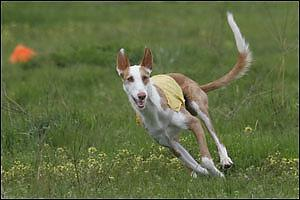Ibizan_hound: (114, 10, 254, 183)
